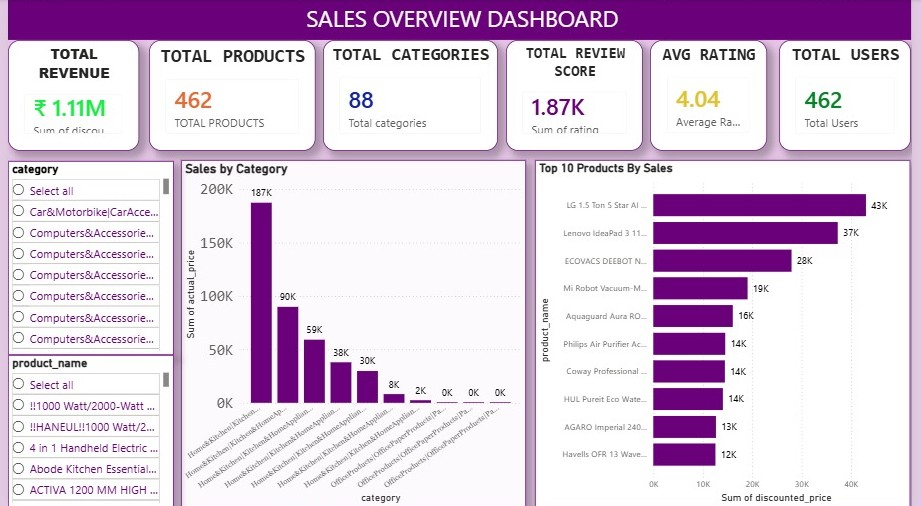

What the dashboard file says about the page in this screenshot:
{"tool":"powerbi","page":{"name":"Page 1","canvas":[1280,720],"ordinal":0},"visuals":[{"type":"cardVisual","title":"TOTAL REVENUE","fields":{"Data":["Sum(amazon_sales csv.discounted_price)"]},"box":[0,57.6,185.8,157],"z":0},{"type":"textbox","box":[0,0,1280.2,57.6],"z":1000},{"type":"cardVisual","title":"TOTAL PRODUCTS","fields":{"Data":["amazon_sales csv.TOTAL PRODUCTS"]},"box":[200.2,57.6,236.2,157],"z":2000},{"type":"cardVisual","title":"TOTAL CATEGORIES","fields":{"Data":["amazon_sales csv.Total categories"]},"box":[446.4,57.6,247.7,157],"z":3000},{"type":"cardVisual","title":"TOTAL REVIEW SCORE","fields":{"Data":["Sum(amazon_sales csv.rating)"]},"box":[705.6,57.6,194.4,157],"z":4000},{"type":"cardVisual","title":"TOTAL USERS","fields":{"Data":["amazon_sales csv.Total Users"]},"box":[1093,57.6,187.2,157],"z":5000},{"type":"cardVisual","title":"AVG  RATING","fields":{"Data":["amazon_sales csv.Avg Rating"]},"box":[910.1,57.6,165.6,157],"z":6000},{"type":"clusteredColumnChart","title":"Sales by Category","fields":{"Category":["amazon_sales csv.category"],"Y":["Sum(amazon_sales csv.actual_price)"]},"box":[245.2,228.5,488.8,492.2],"z":7000},{"type":"clusteredBarChart","title":"Top 10 Products By Sales","fields":{"Category":["amazon_sales csv.product_name"],"Y":["Sum(amazon_sales csv.discounted_price)"]},"box":[747.5,228.5,532.5,492.2],"z":8000},{"type":"listSlicer","fields":{"Values":["amazon_sales csv.category"]},"box":[0,229,234.7,275],"z":9000},{"type":"listSlicer","fields":{"Values":["amazon_sales csv.product_name"]},"box":[0,504,234.7,216],"z":10000}]}

Visuals, with their boxes in screenshot pixels (x1, y1, x2, y2), scaled from the page's 1280x720 canvas onto the 921x506 screenshot:
"TOTAL REVENUE" cardVisual: bbox(0, 40, 134, 151)
textbox: bbox(0, 0, 920, 40)
"TOTAL PRODUCTS" cardVisual: bbox(144, 40, 314, 151)
"TOTAL CATEGORIES" cardVisual: bbox(321, 40, 499, 151)
"TOTAL REVIEW SCORE" cardVisual: bbox(508, 40, 648, 151)
"TOTAL USERS" cardVisual: bbox(786, 40, 920, 151)
"AVG  RATING" cardVisual: bbox(655, 40, 774, 151)
"Sales by Category" clusteredColumnChart: bbox(176, 161, 528, 505)
"Top 10 Products By Sales" clusteredBarChart: bbox(538, 161, 920, 505)
listSlicer - amazon_sales csv.category: bbox(0, 161, 169, 354)
listSlicer - amazon_sales csv.product_name: bbox(0, 354, 169, 505)
